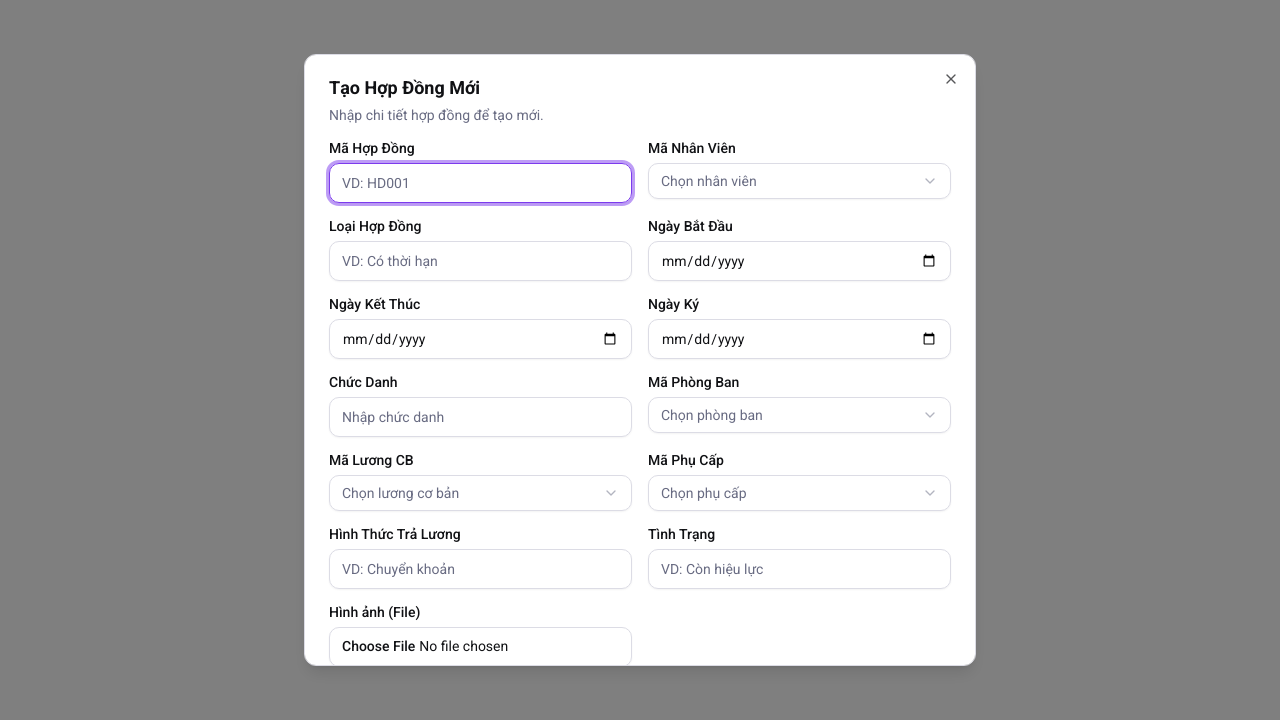
CreateContractDialog › shows validation errors for invalid MaHopDong format
Type "INVALID" into the field labelled "Mã Hợp Đồng" at (480, 183), box [329,163,632,203]
(page scrolled)
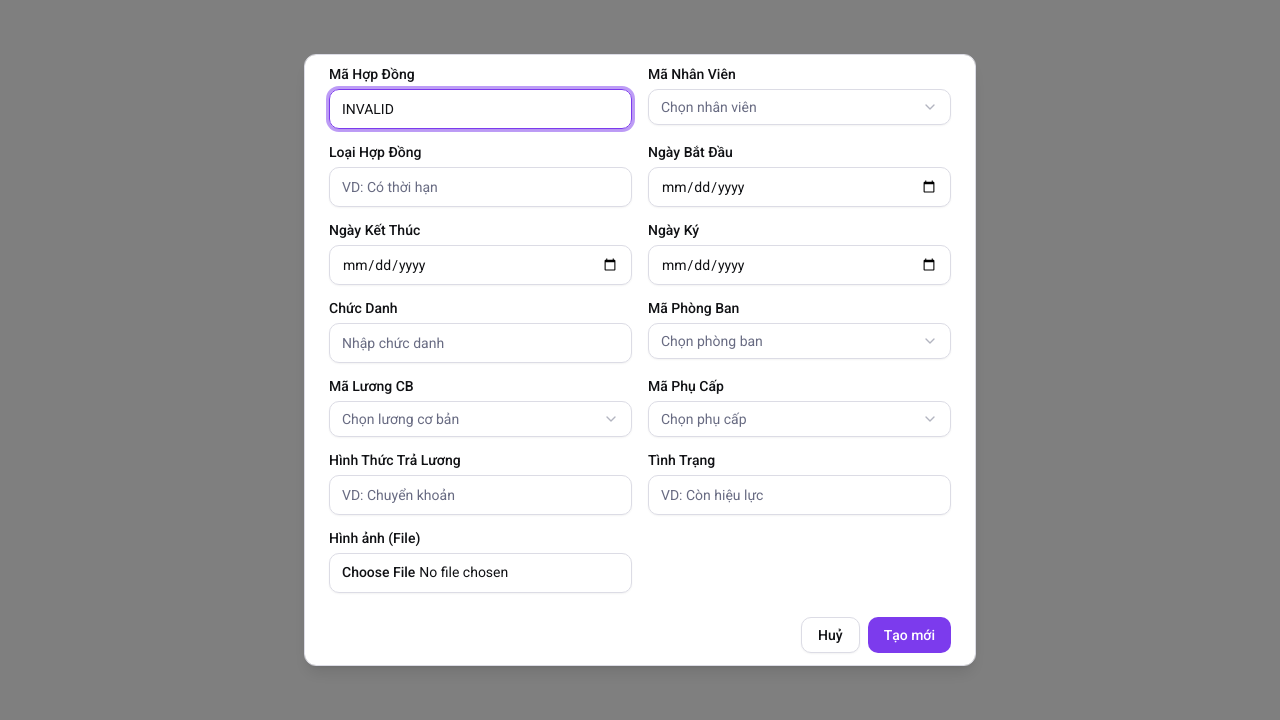
Submit the form, box [329,67,951,653]
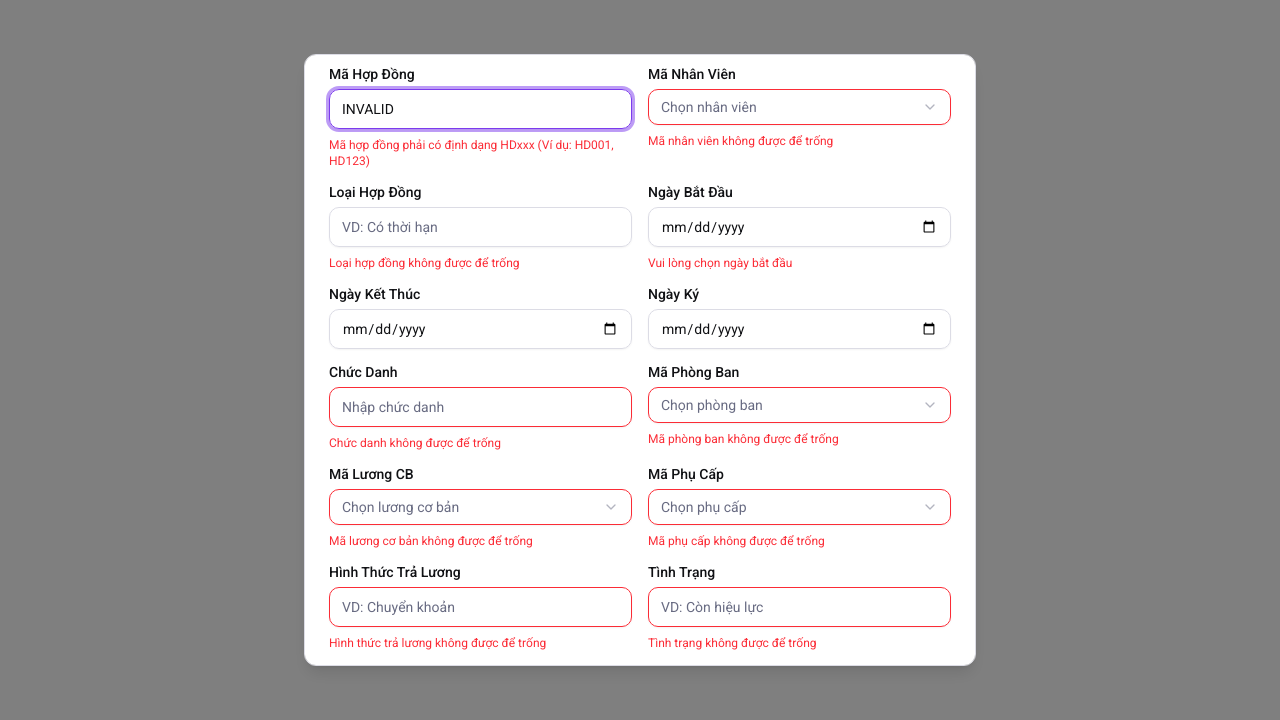
Now the text "Mã hợp đồng phải có định dạng HDxxx (Ví dụ: HD001, HD123)" is shown, box [329,137,632,169]
